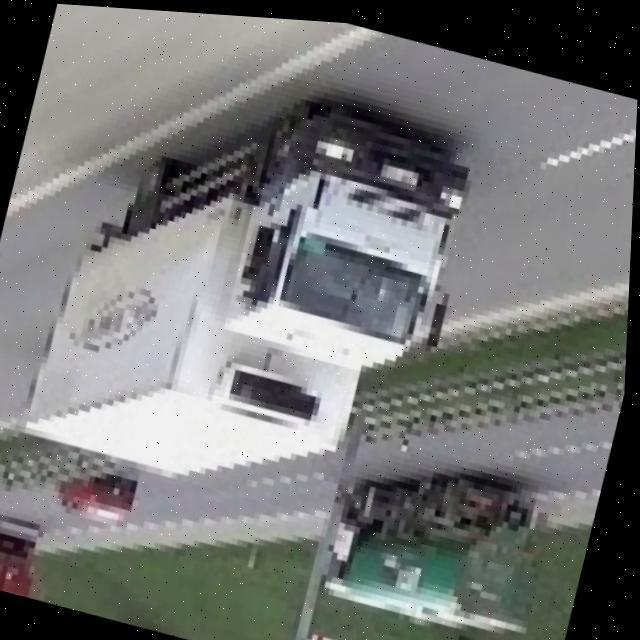truck: (20, 49, 492, 546), (317, 431, 575, 640)
